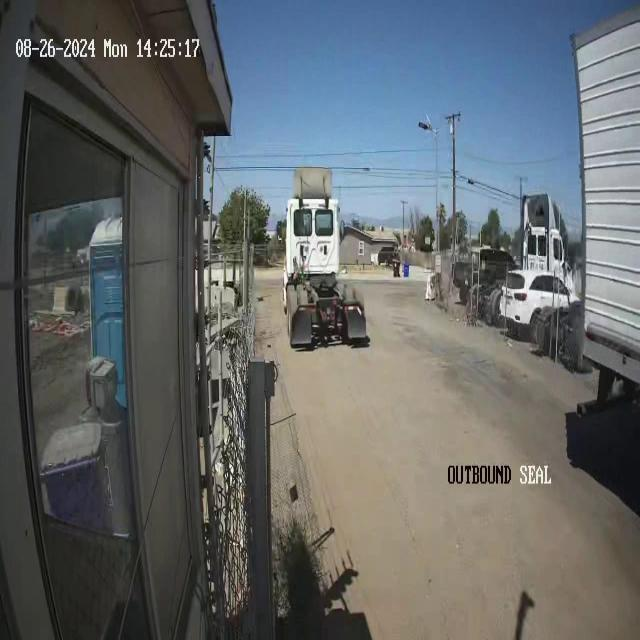TRUCK_OUT: (282, 166, 368, 350)
